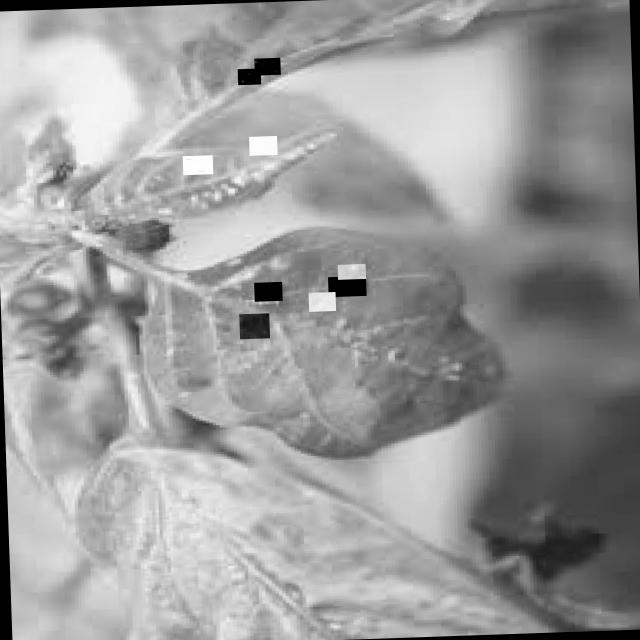aphid: (326, 276, 366, 296), (238, 313, 268, 339), (252, 282, 282, 302), (182, 154, 212, 174), (307, 292, 335, 312), (248, 136, 276, 156), (252, 57, 280, 75), (336, 264, 365, 280), (236, 68, 260, 85)
